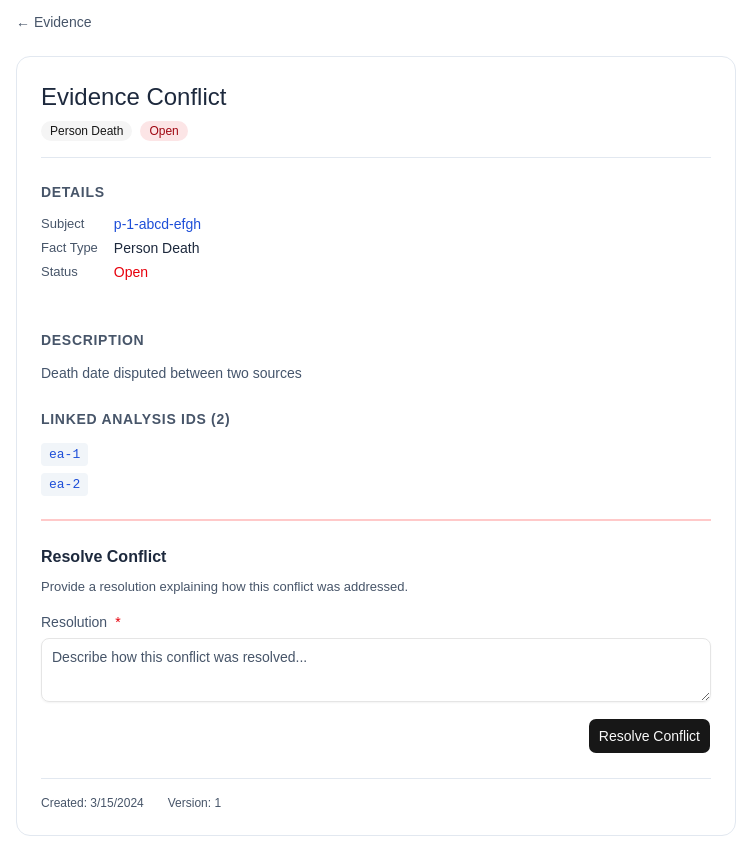
Conflict Detail Page - save conflict (#939) › shows a resolution saved elsewhere instead of offering to overwrite it
The width and height of the screenshot is (753, 853).
Type "The newspaper is wrong." into the text box named "Resolution text".
click(376, 670); type("The newspaper is wrong.")  # box [41,638,711,702]
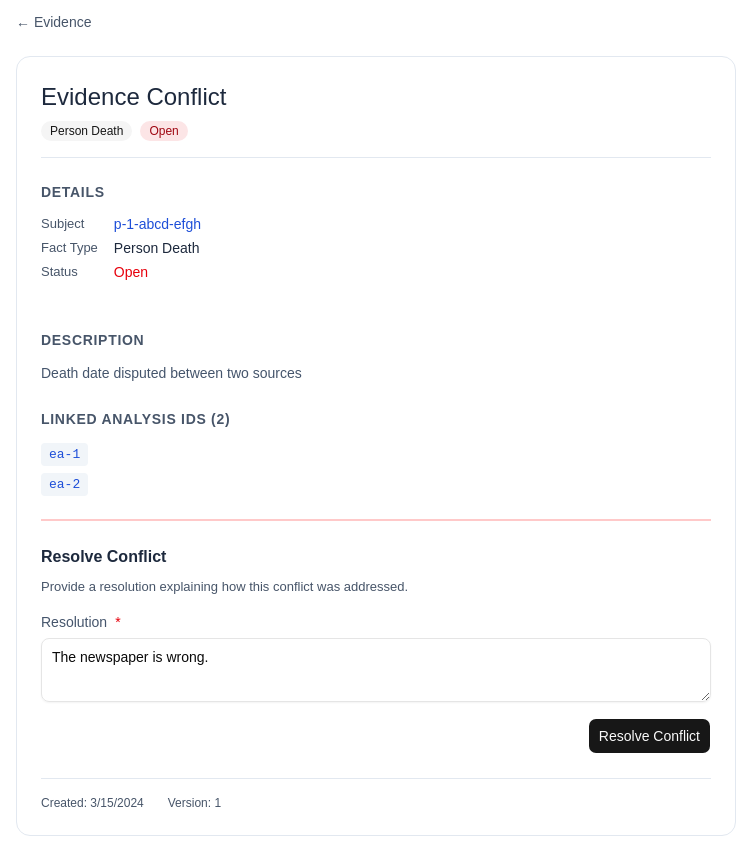
Click the button "Resolve Conflict".
click(649, 736)  # box [588,718,711,754]
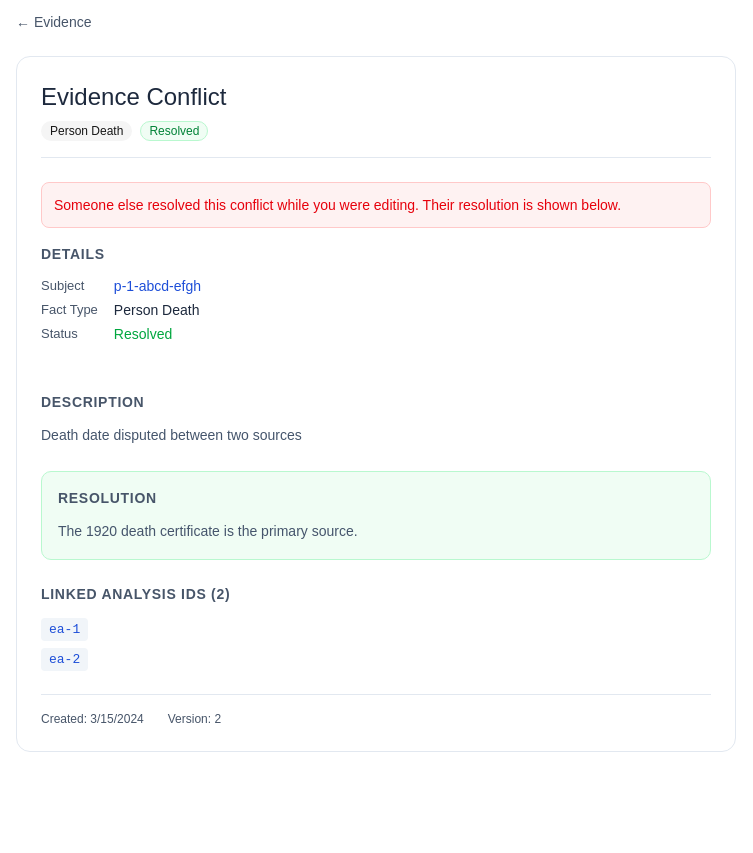
Expected: the text "Someone else resolved this conflict" is shown, [54,197,621,213]
Expected: the text "The 1920 death certificate is the primary source." is shown, [58,523,358,539]
